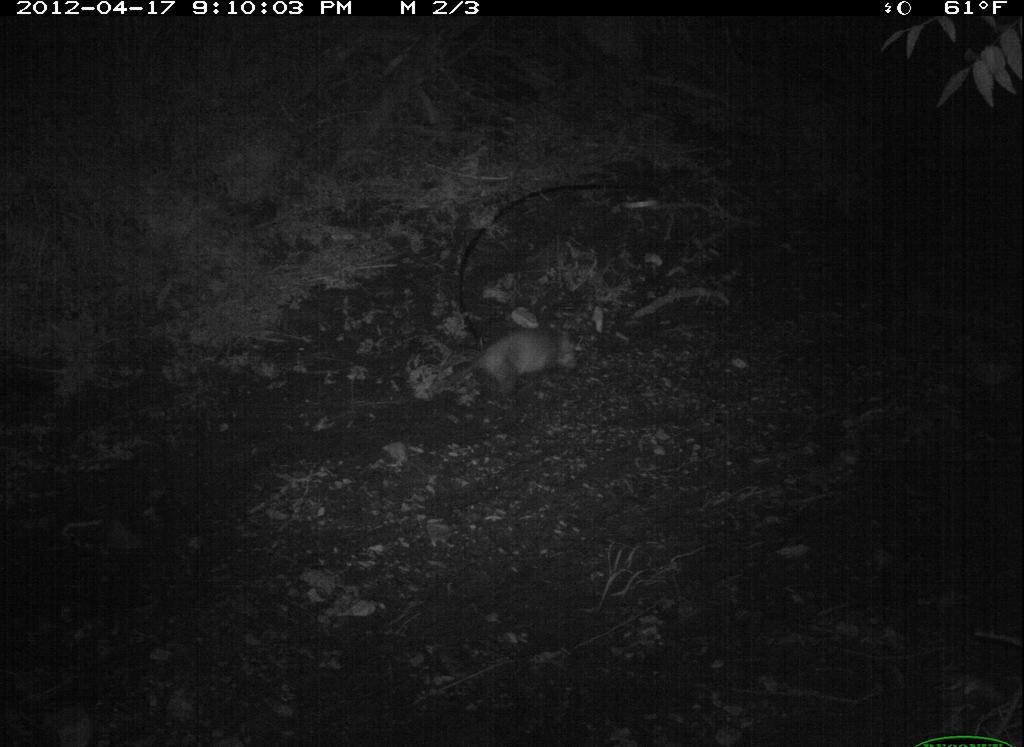opossum: (420, 317, 612, 413)
